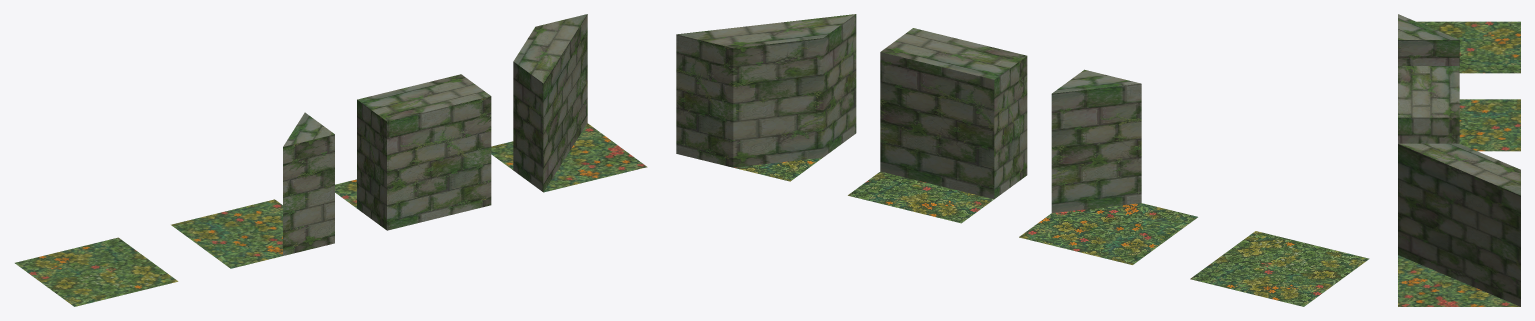
Rendered from gridtest.glb.
3 views of the same model, side by side, from view 1: azimuth 30°, elevation 25°; view 2: azimuth 150°, elevation 25°; view 3: azimuth 270°, elevation 25° (orthographic). The views are drawn at different scales.
Visible parts, largest first — view 1: Plane.003-col, Plane.002-col, Plane.004-col, Plane.001-col; view 2: Plane.002-col, Plane.003-col, Plane.004-col, Plane.001-col; view 3: Plane.002-col, Plane.004-col, Plane.003-col, Plane.001-col.
Part boxes in pixels (x1=…): Plane.003-col: x1=335, y1=74, x2=491, y2=230; Plane.002-col: x1=491, y1=14, x2=647, y2=192; Plane.004-col: x1=171, y1=112, x2=334, y2=268; Plane.001-col: x1=15, y1=237, x2=178, y2=306; Plane.002-col: x1=676, y1=14, x2=856, y2=181; Plane.003-col: x1=848, y1=28, x2=1027, y2=223; Plane.004-col: x1=1019, y1=69, x2=1197, y2=264; Plane.001-col: x1=1190, y1=231, x2=1369, y2=306; Plane.002-col: x1=1398, y1=143, x2=1520, y2=306; Plane.004-col: x1=1398, y1=14, x2=1520, y2=151; Plane.003-col: x1=1398, y1=66, x2=1459, y2=143; Plane.001-col: x1=1417, y1=21, x2=1520, y2=73.
Size of the model in its own units: 11 by 2 by 2.
2 materials, 2 textured.
